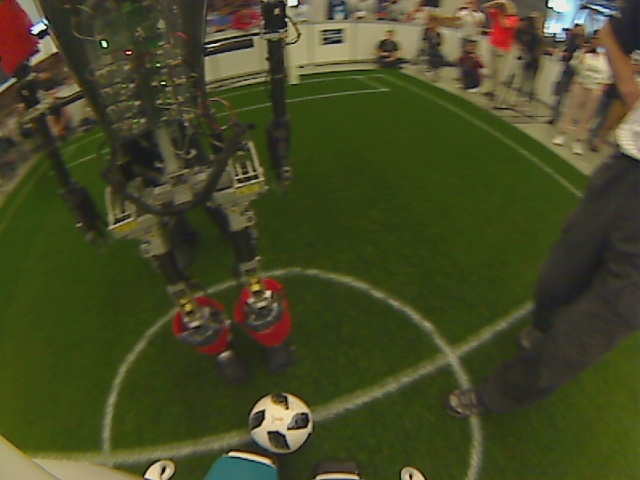ball: (246, 392, 316, 457)
goalpost: (283, 68, 308, 93)
robot: (216, 328, 305, 399)
